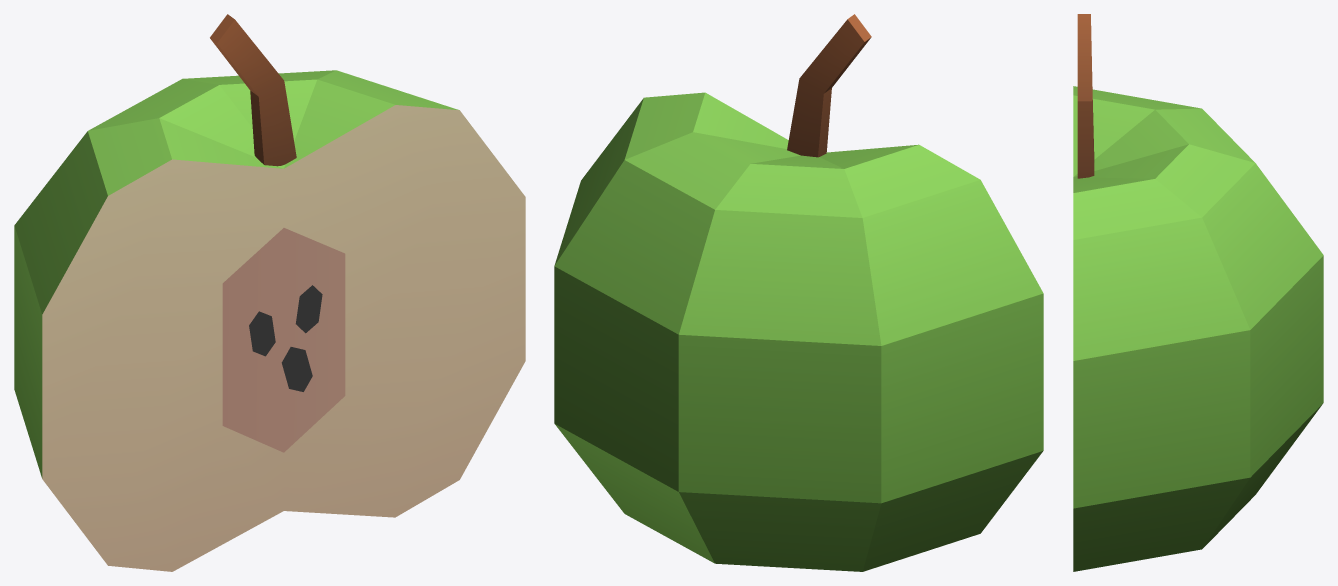
File: Green Apple Half.fbx
3 renders of one model, left to right at view 1: azimuth 30°, elevation 25°; view 2: azimuth 150°, elevation 25°; view 3: azimuth 270°, elevation 25°, orthographic. The views are drawn at different scales.
Visible parts, largest first — view 1: Green Apple Half; view 2: Green Apple Half; view 3: Green Apple Half.
Part boxes in pixels (bbox=[...]): Green Apple Half: bbox=[14, 14, 525, 571]; Green Apple Half: bbox=[554, 14, 1043, 571]; Green Apple Half: bbox=[1073, 14, 1323, 571].
Size of the model in its own units: 17.13 by 18.12 by 8.6.
